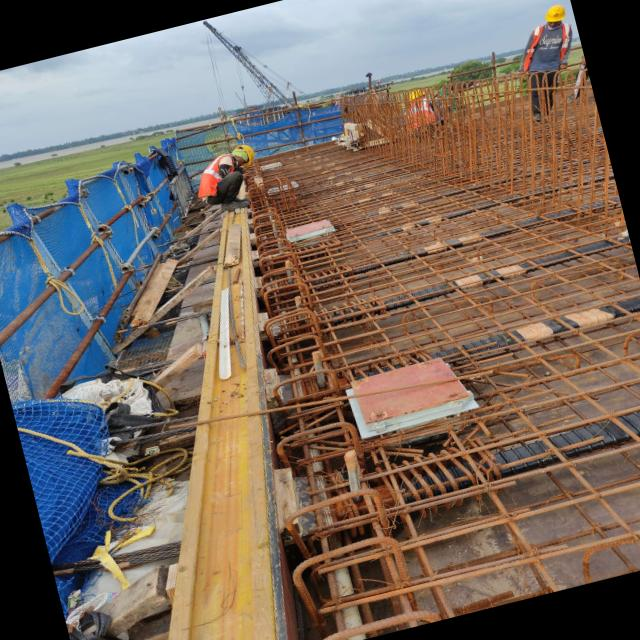grass: (0, 132, 174, 230)
